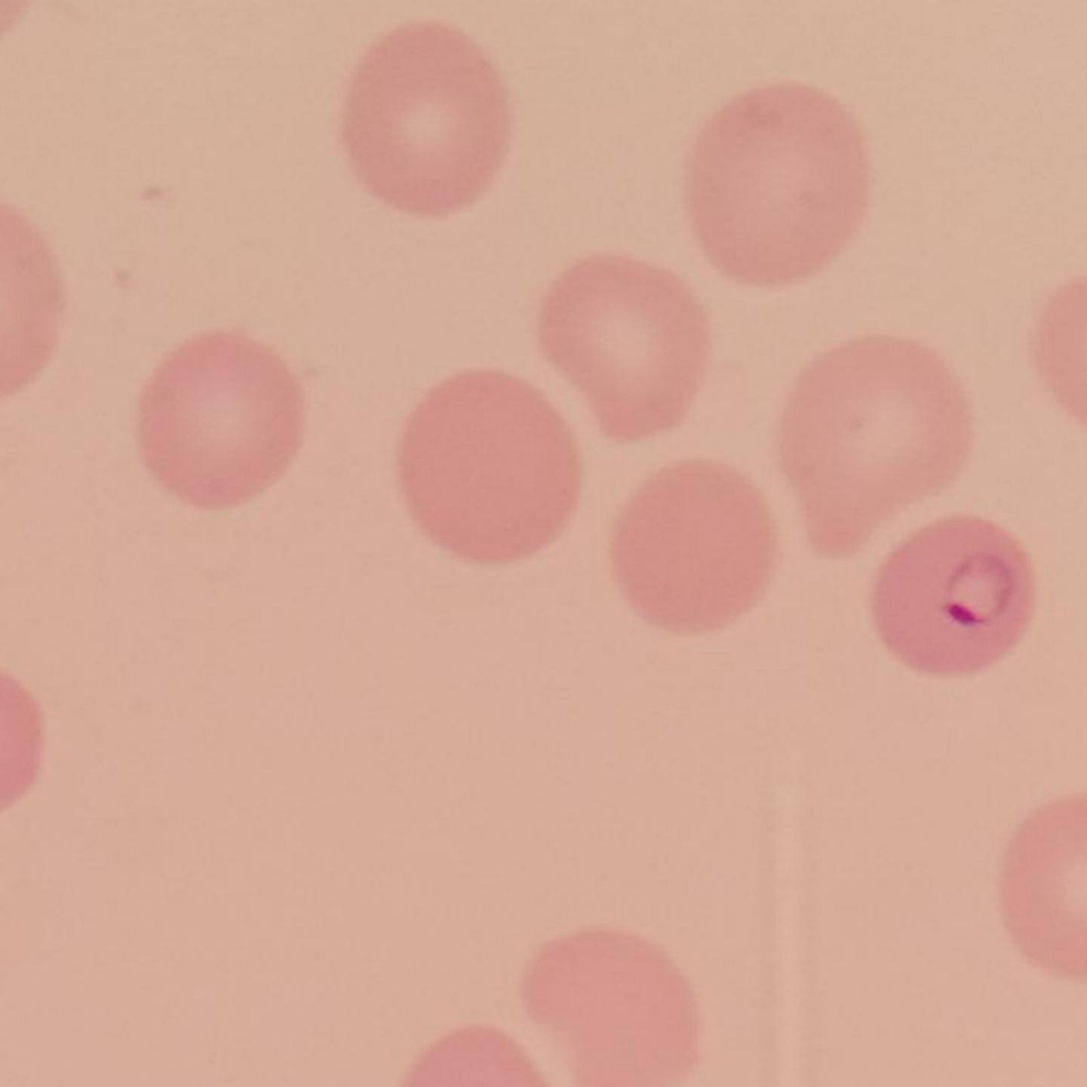Infected: (870, 510, 1038, 686)
Uninfected: (779, 333, 972, 552), (684, 84, 872, 282), (402, 365, 585, 560), (533, 250, 709, 443), (138, 328, 308, 507), (616, 458, 788, 631), (350, 28, 510, 213)
